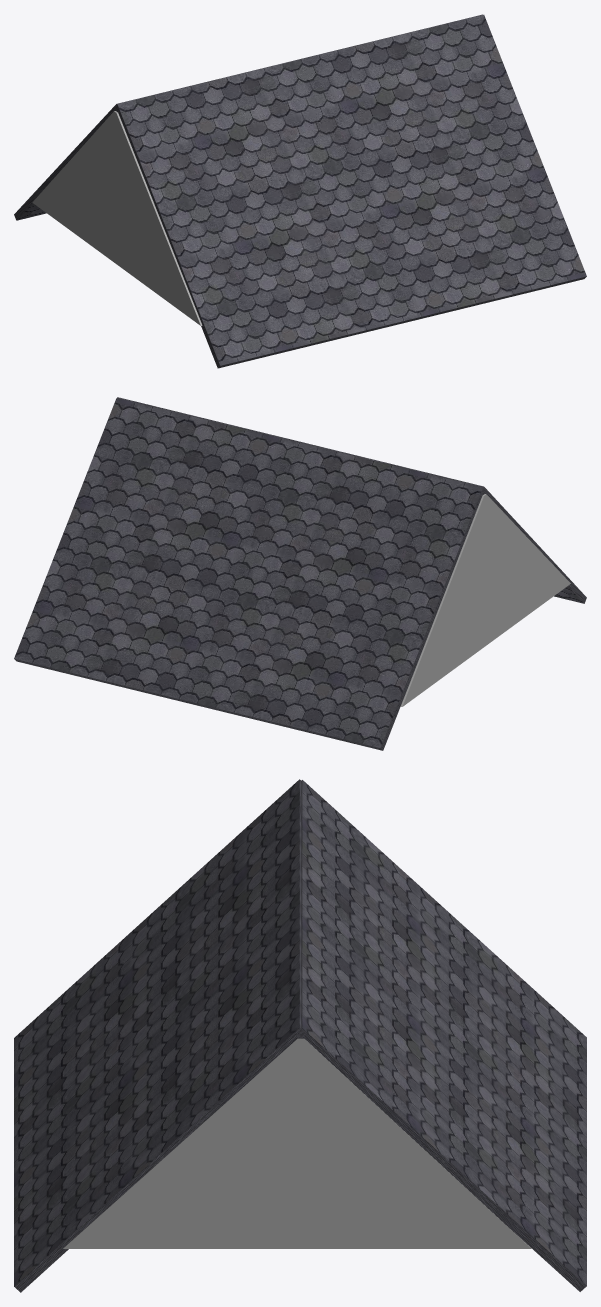
Rendered from NormalHouseAngleRoof.fbx.
3 renders of one model, top to bottom at view 1: azimuth 30°, elevation 25°; view 2: azimuth 150°, elevation 25°; view 3: azimuth 270°, elevation 25°, orthographic. The views are drawn at different scales.
Visible parts, largest first — view 1: pCube19; view 2: pCube19; view 3: pCube19.
Boxes of the visible parts, left/top/right/bottom form: pCube19: left=14, top=14, right=586, bottom=368; pCube19: left=14, top=397, right=586, bottom=750; pCube19: left=14, top=779, right=586, bottom=1292.
Size of the model in its own units: 9.68 by 4.79 by 9.38.
